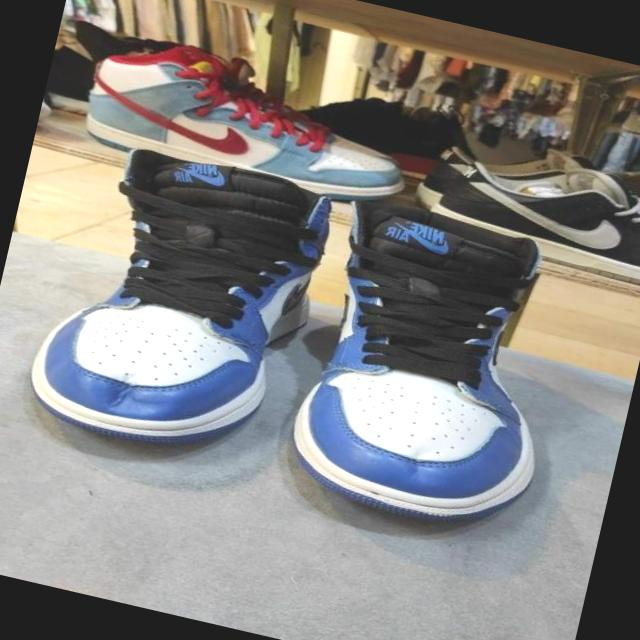nike_fake_jordan: (16, 129, 340, 474), (279, 190, 592, 544)
